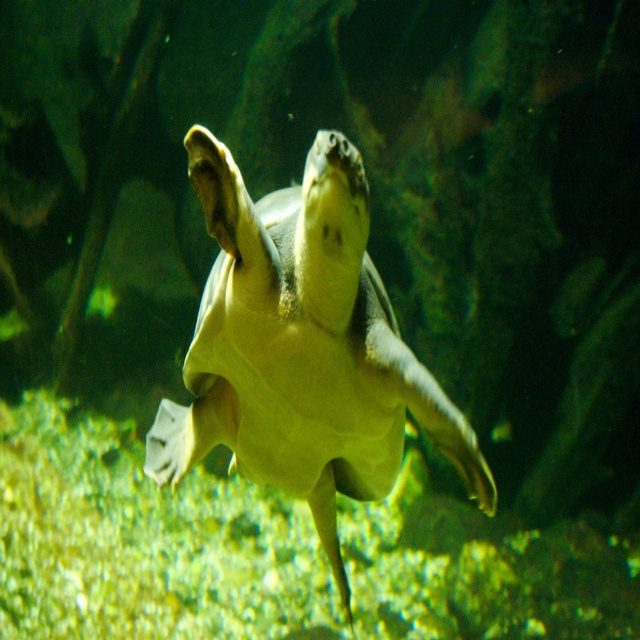Sea turtle: (141, 119, 499, 634)
